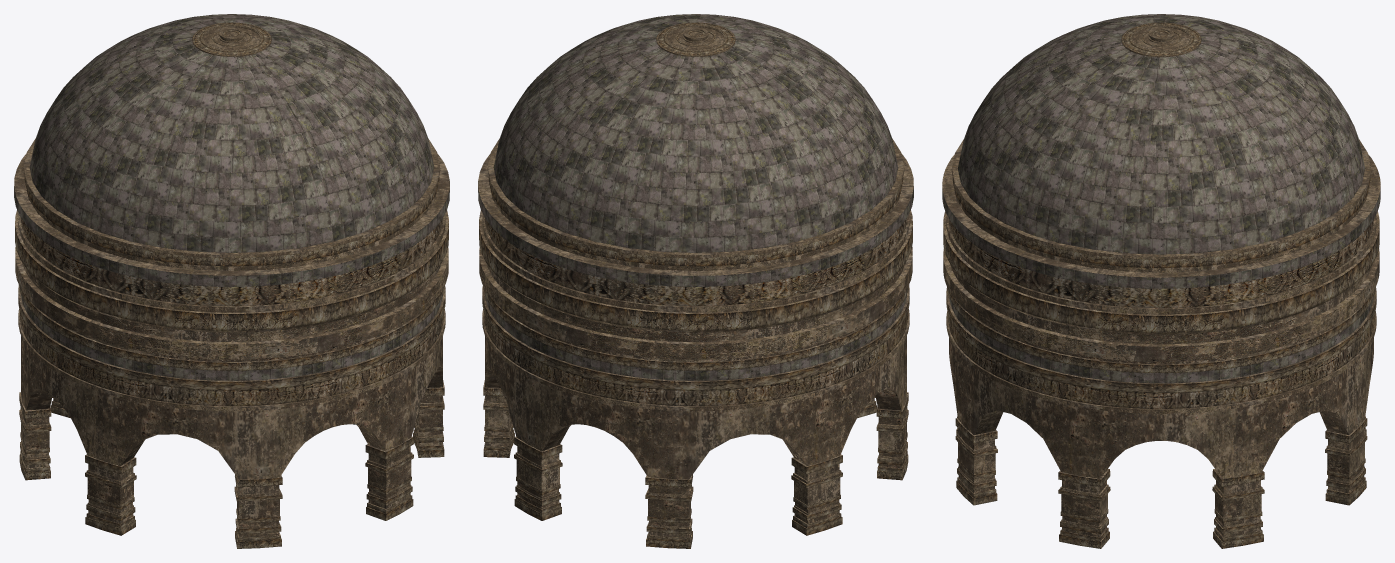
File: materials_5_building_17.fbx
The picture shows the model from 3 angles, left to right: view 1: azimuth 30°, elevation 25°; view 2: azimuth 150°, elevation 25°; view 3: azimuth 270°, elevation 25°; orthographic projection.
Parts seen in each view (by area): view 1: materials_5_building_17; view 2: materials_5_building_17; view 3: materials_5_building_17.
Boxes of the visible parts, x1,y1,x2,y2 form: materials_5_building_17: (14,14,449,548); materials_5_building_17: (478,14,913,548); materials_5_building_17: (942,14,1380,548).
Bounding box in the file's own units: 677 × 731 × 677.
